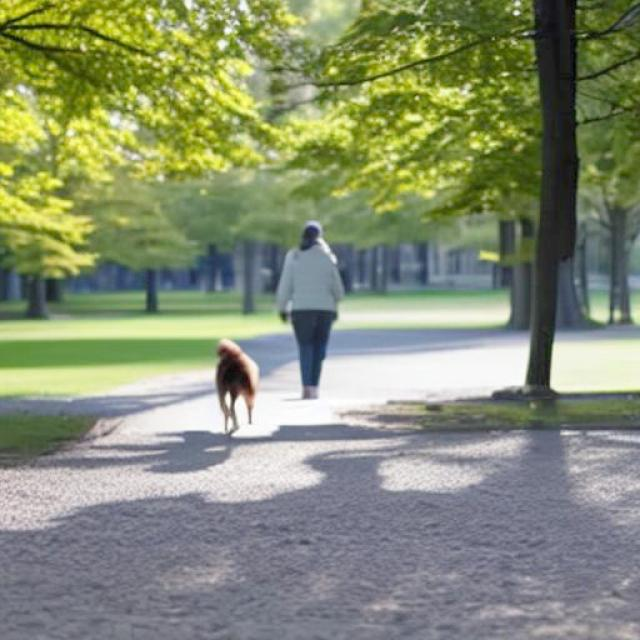Unleashed_Dog: (215, 304, 326, 434)
